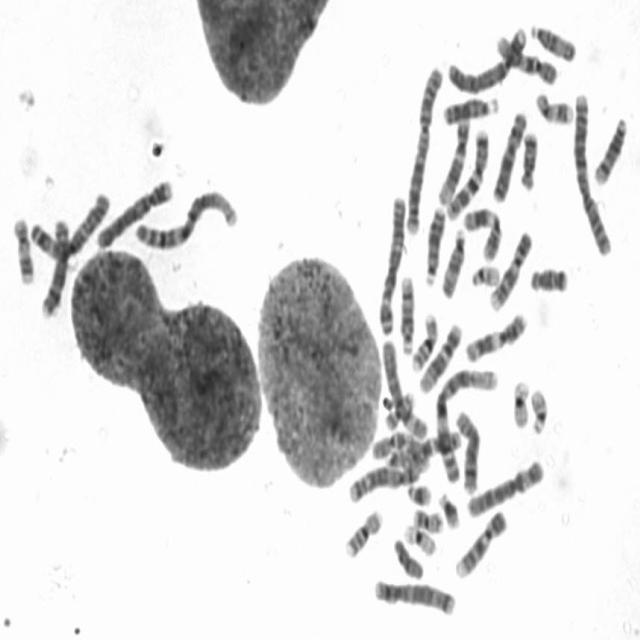A1: (429, 359, 500, 486), (129, 180, 239, 252)
A2: (568, 84, 614, 258), (401, 58, 444, 237)
A3: (24, 183, 112, 262), (374, 189, 407, 337)
B4: (442, 18, 529, 95), (91, 172, 175, 250)
B5: (344, 453, 429, 505), (368, 571, 458, 617)
C10: (492, 26, 560, 86), (368, 424, 432, 471)
C11: (461, 305, 529, 364), (458, 199, 504, 262)
C12: (415, 315, 464, 395), (434, 110, 472, 206)
C6: (462, 451, 546, 520), (378, 332, 430, 441)
C7: (442, 121, 491, 222), (379, 422, 464, 470)
C8: (36, 210, 72, 320), (451, 403, 482, 496)
C9: (451, 502, 509, 580), (485, 223, 534, 313)
D13: (420, 198, 447, 286), (438, 88, 501, 125)
D14: (589, 108, 630, 186), (395, 268, 416, 356)
D15: (525, 15, 578, 63), (436, 221, 467, 299)
E16: (340, 501, 384, 560), (407, 305, 440, 373)
E17: (9, 208, 36, 288), (531, 85, 575, 126)
E18: (516, 124, 540, 191), (525, 259, 570, 294)
F19: (399, 516, 438, 558), (508, 372, 531, 431)
F20: (380, 384, 416, 432), (410, 502, 444, 534)
G21: (434, 484, 462, 530), (403, 475, 433, 507)
G22: (526, 380, 550, 436), (467, 258, 500, 288)
X: (488, 103, 529, 204)
Y: (389, 530, 425, 582)
